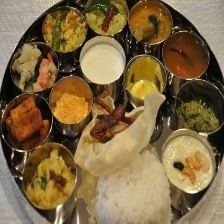dal: (130, 3, 173, 45)
